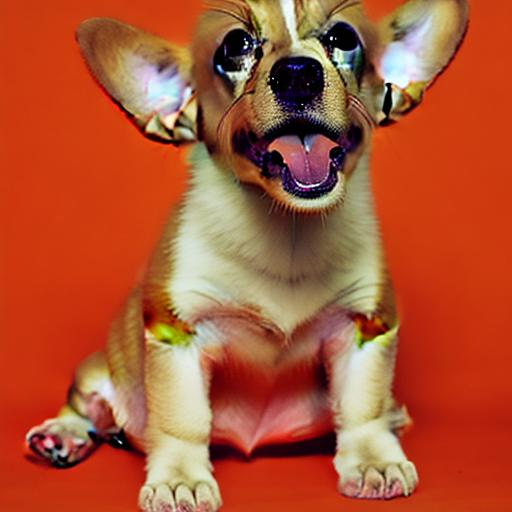eye: (214, 24, 264, 78), (321, 23, 366, 60)
